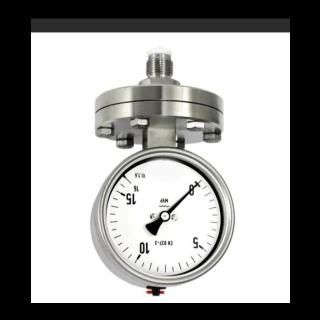gauge: (91, 146, 241, 302), (186, 175, 204, 197), (118, 172, 140, 188), (158, 210, 170, 222), (196, 178, 203, 185)
